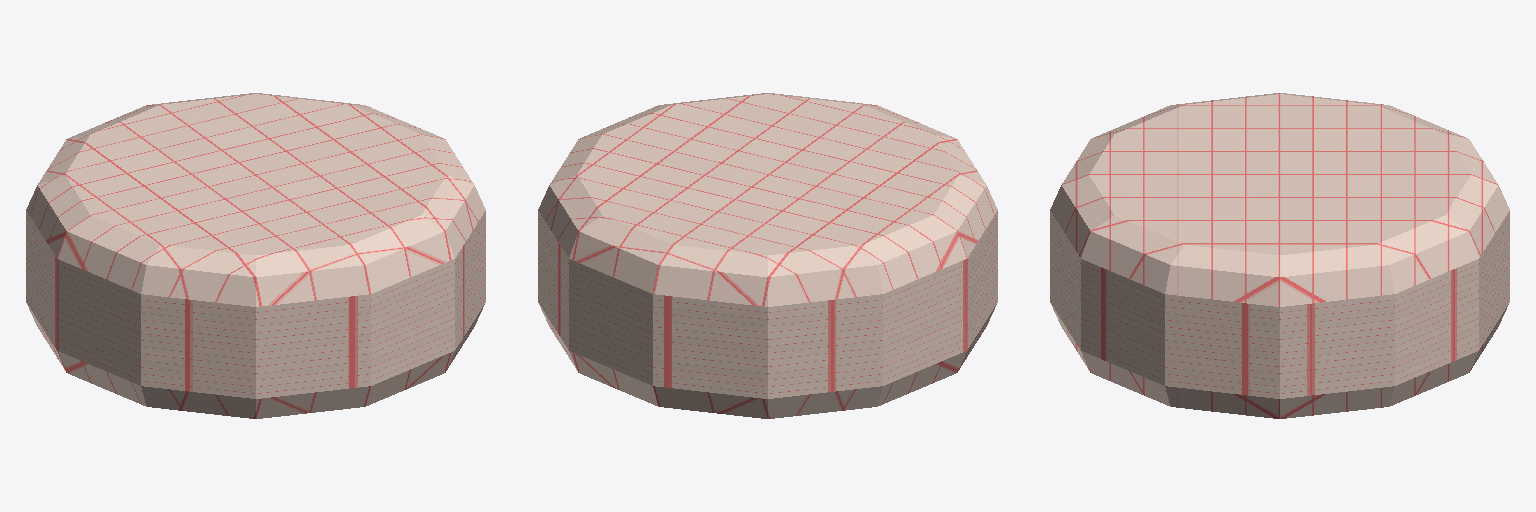
3 views of the same model, side by side, from view 1: azimuth 30°, elevation 25°; view 2: azimuth 150°, elevation 25°; view 3: azimuth 270°, elevation 25° (orthographic).
Visible parts, largest first — view 1: ChamferCyl001; view 2: ChamferCyl001; view 3: ChamferCyl001.
Boxes of the visible parts, box(x1,y1,x2,y2) form: ChamferCyl001: box(26, 93, 485, 418); ChamferCyl001: box(538, 93, 997, 418); ChamferCyl001: box(1050, 93, 1509, 418).
Bounding box in the file's own units: 11.68 × 4.55 × 11.68.
1 materials, 1 textured.